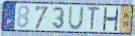3: (52, 6, 66, 30)
7: (34, 5, 49, 30)
8: (16, 5, 32, 30)
H: (101, 7, 120, 33)
T: (87, 6, 101, 32)
U: (67, 6, 85, 31)
